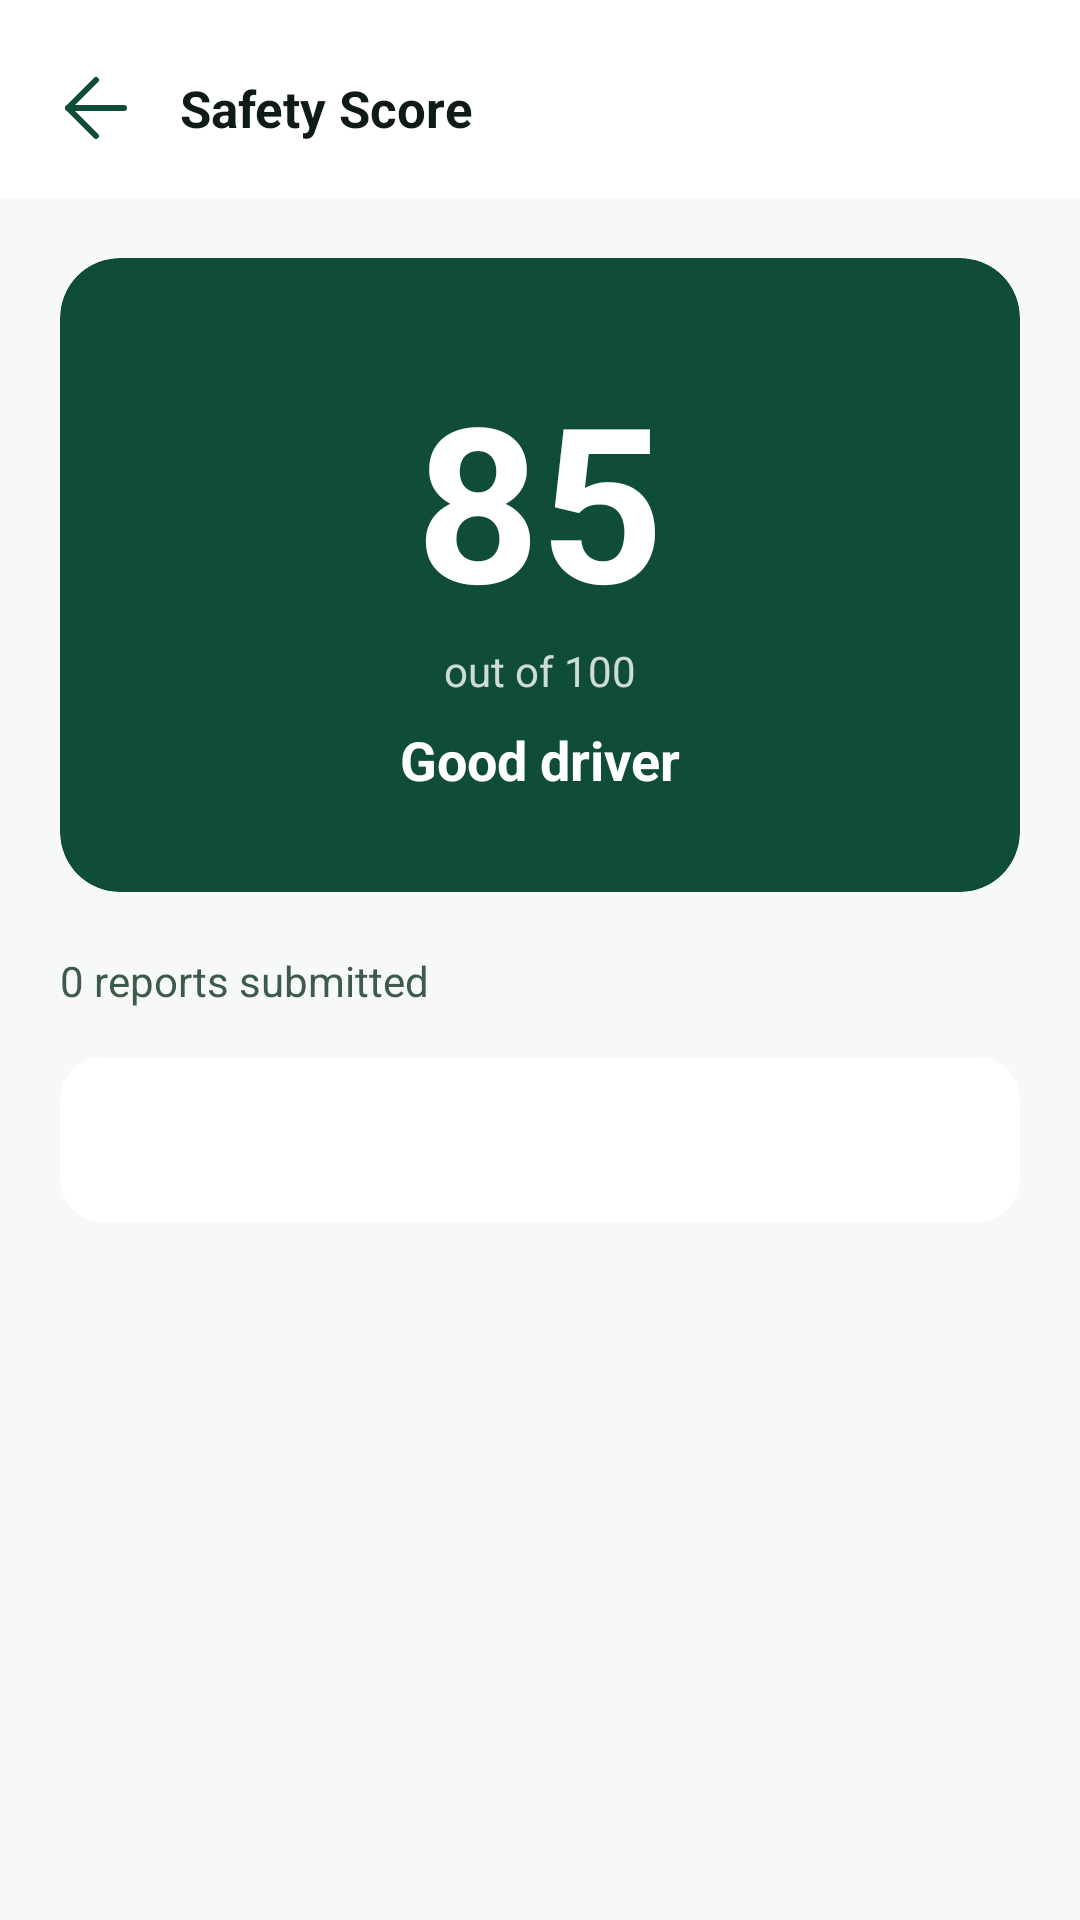

Named icons in this screenshot (1080px x 1920px) and their bounding boxes, (x1, y1, x2, y2):
back: (65, 76, 127, 139)
